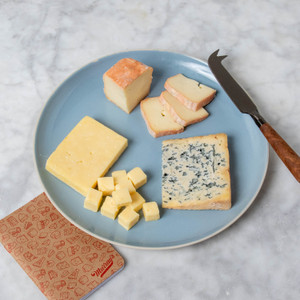cheese: (45, 113, 132, 189), (157, 137, 228, 212), (89, 163, 172, 224), (135, 73, 209, 132), (105, 57, 144, 115)
